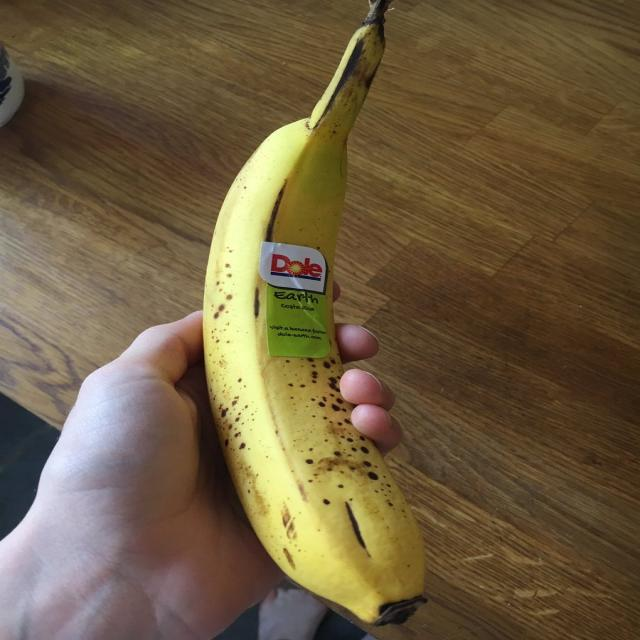Banana: (198, 0, 439, 628)
